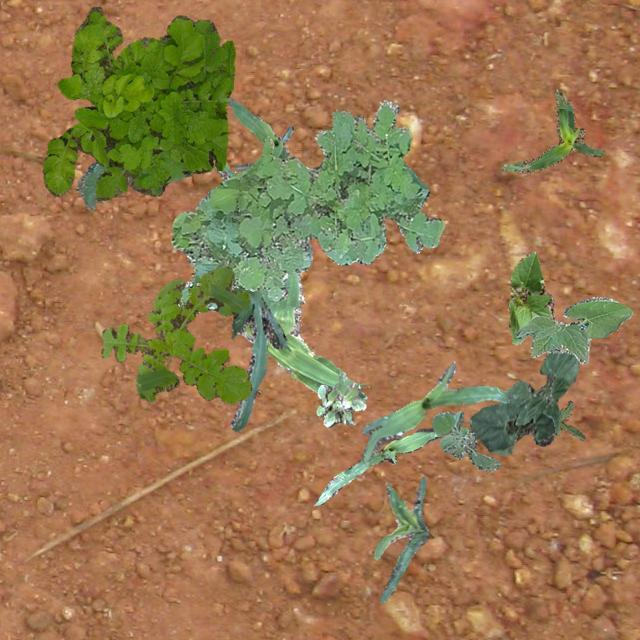crop: (216, 162, 366, 400), (360, 360, 510, 462), (314, 428, 442, 504), (499, 88, 604, 172), (230, 284, 288, 430), (516, 296, 632, 364), (372, 476, 428, 602), (506, 348, 578, 431), (226, 96, 292, 170), (506, 250, 554, 344), (468, 402, 554, 454)
weed: (170, 99, 444, 308), (42, 6, 234, 200), (100, 266, 250, 402), (76, 160, 192, 208), (432, 410, 499, 470), (316, 369, 364, 426), (552, 400, 584, 440)
